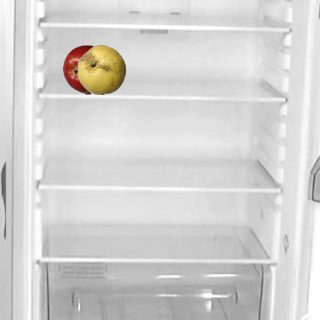Apple Braeburn: (62, 44, 112, 94)
Apple Golden 1: (76, 44, 126, 94)
